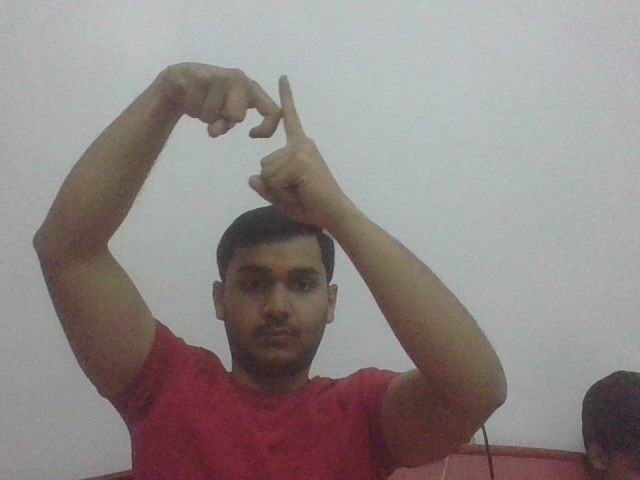K: (238, 69, 315, 161)
